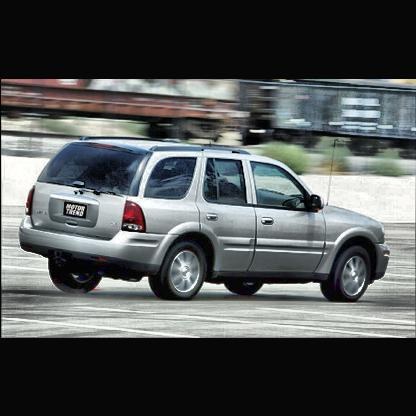Buick Rainier SUV 2007: (17, 132, 394, 305)
